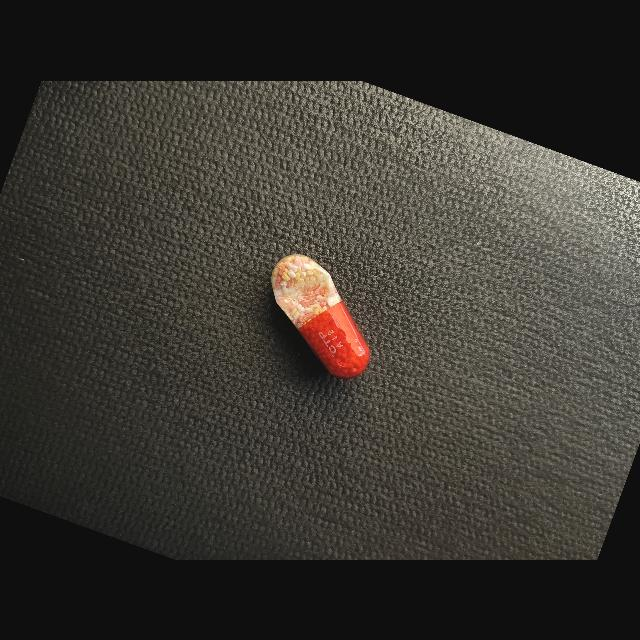Defective Capsule: (271, 253, 370, 377)
